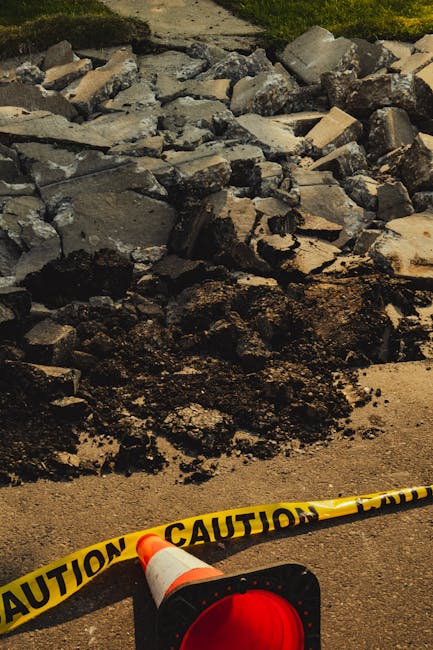traffic_cone: (1, 483, 432, 641), (134, 532, 321, 649)
